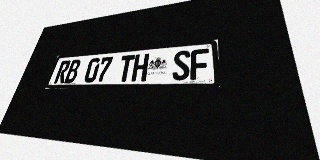0: (83, 58, 101, 83)
7: (95, 57, 113, 82)
B: (64, 59, 82, 83)
F: (190, 48, 209, 80)
H: (131, 53, 149, 82)
R: (54, 60, 71, 83)
S: (172, 50, 190, 80)
T: (117, 55, 135, 82)
